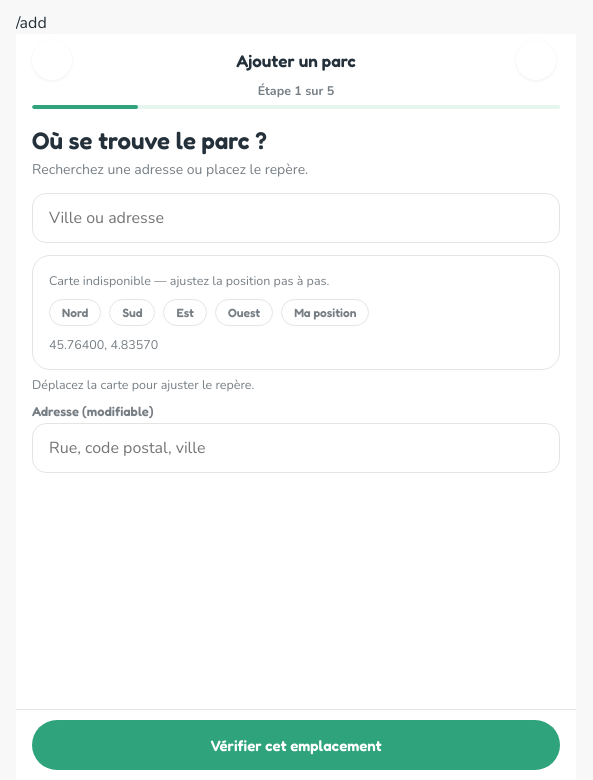
AddPark — persistent draft (LOT 3D.E) › only photo URL strings ever reach localStorage — never a File/Blob
This screenshot has width=593, height=780.
Expected: the heading "Où se trouve le parc ?" is shown, x1=32 y1=126 x2=267 y2=155
Click the button "Vérifier cet emplacement".
click(296, 745)  # box x1=32 y1=720 x2=560 y2=770
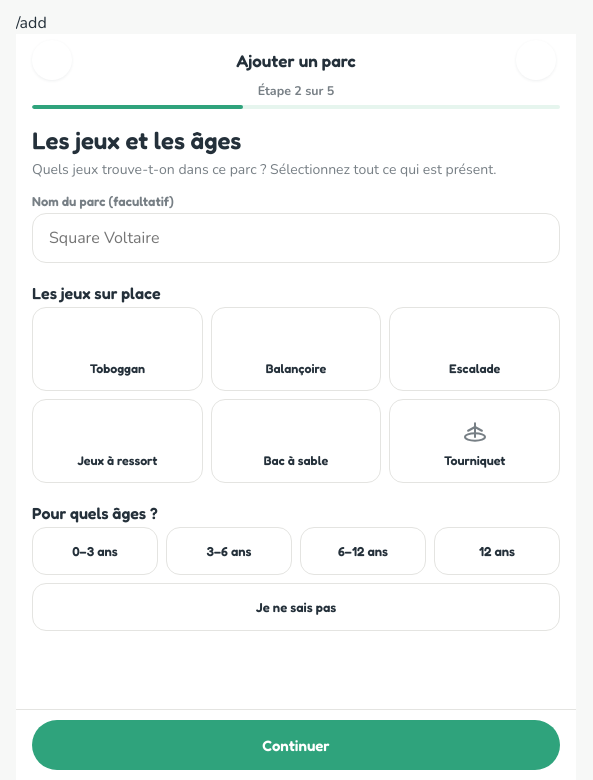
Expected: the heading "Les jeux et les âges" is shown, x1=32 y1=126 x2=241 y2=155
Click the button "Continuer".
click(296, 745)  # box x1=32 y1=720 x2=560 y2=770
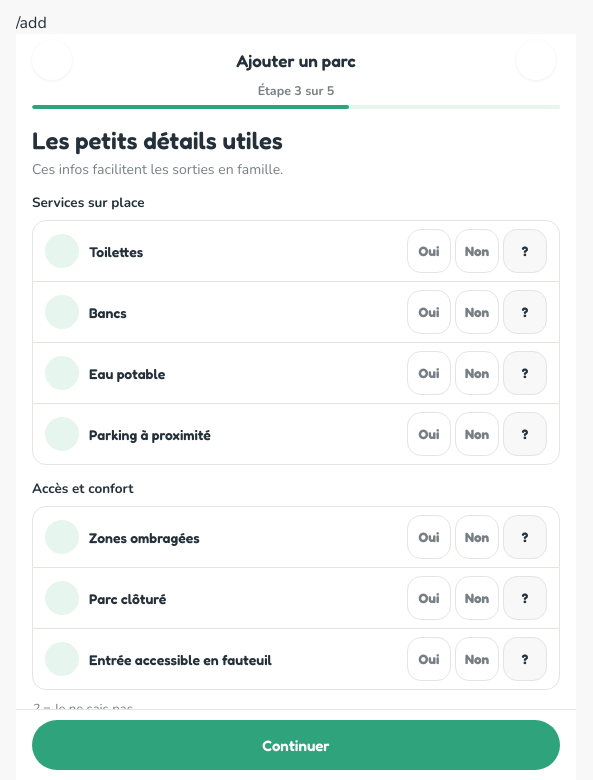
Expected: the heading "Les petits détails utiles" is shown, x1=32 y1=126 x2=283 y2=155
Click the button "Continuer".
click(296, 745)  # box x1=32 y1=720 x2=560 y2=770
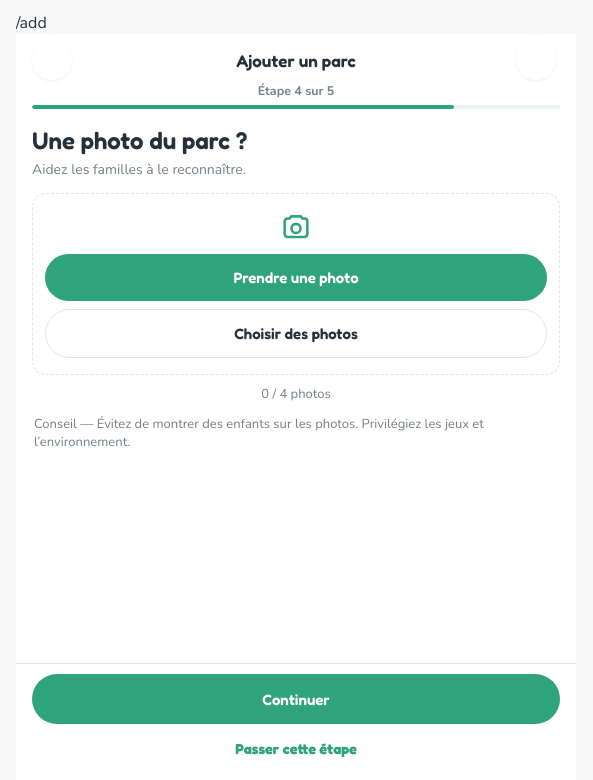
Expected: the heading "Une photo du parc ?" is shown, x1=32 y1=126 x2=247 y2=155
